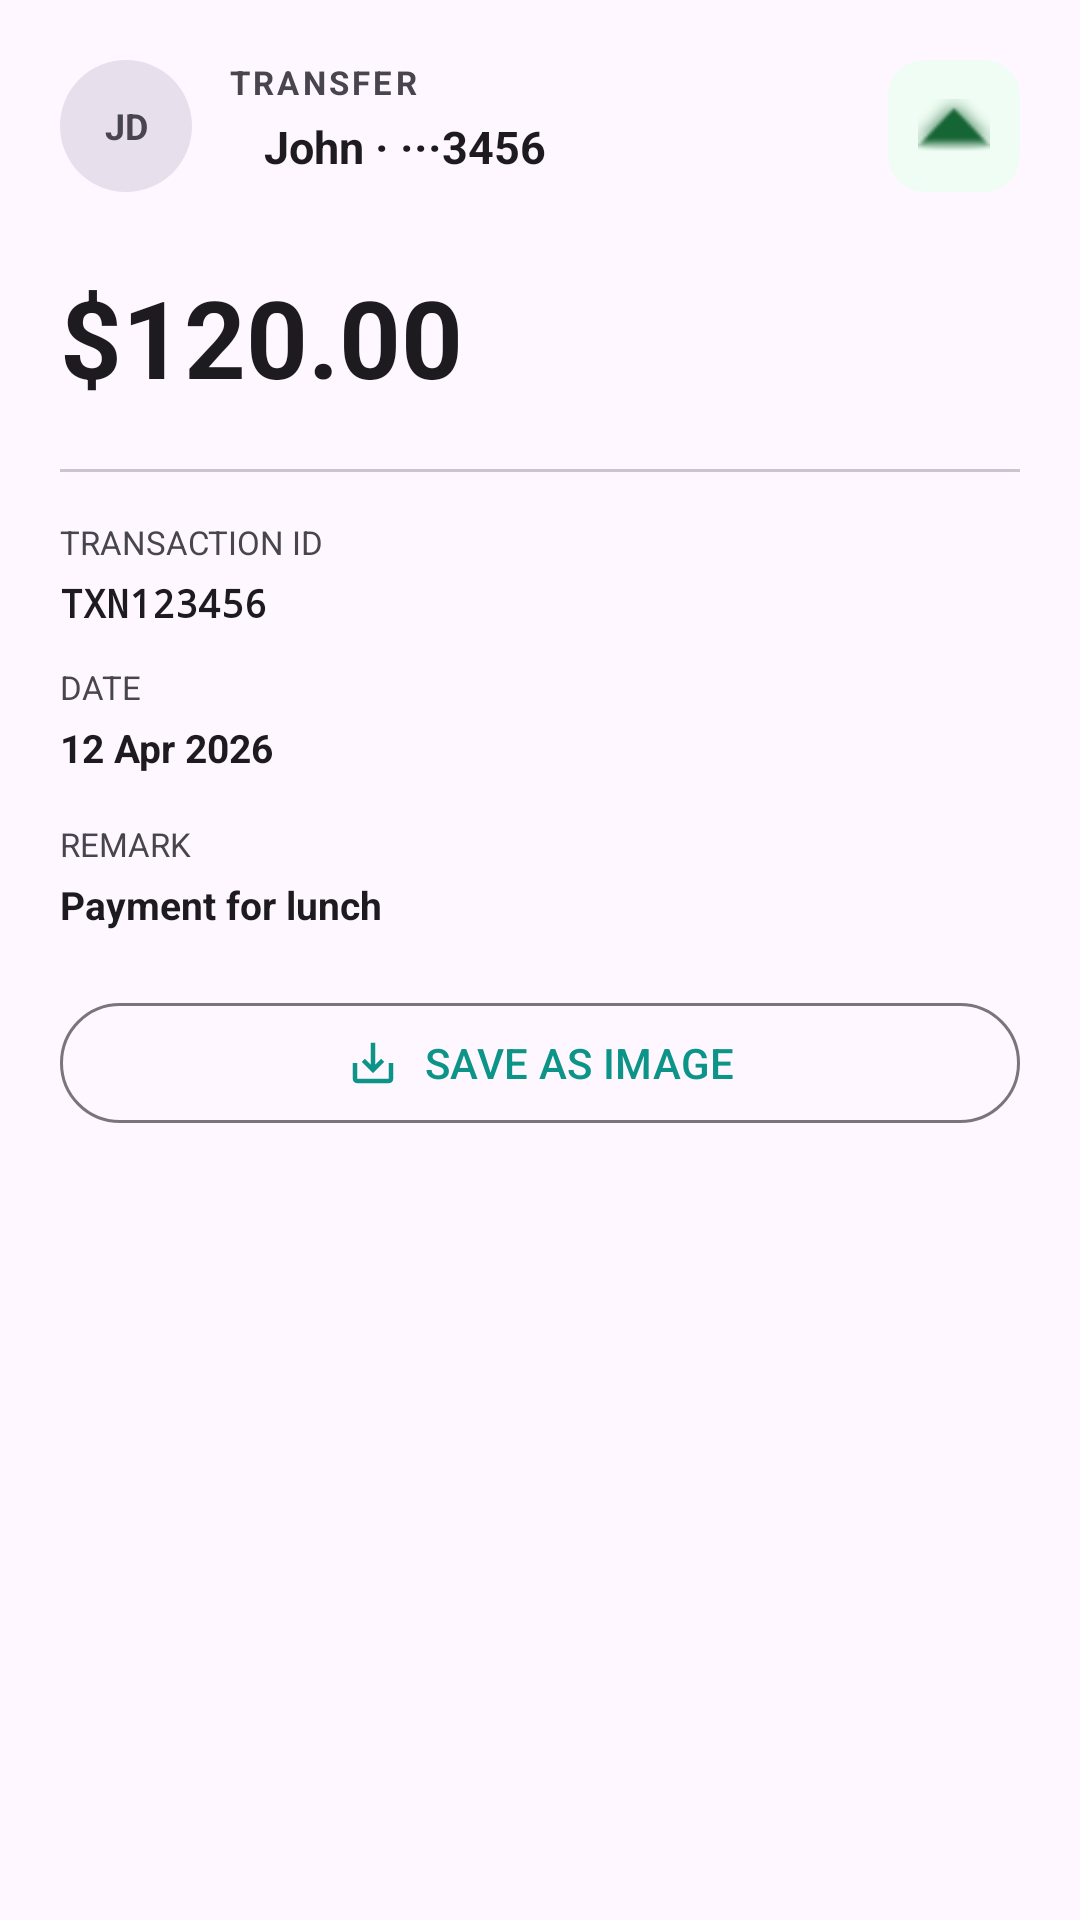

Named icons in this screenshot (1080*1920) and their centers, (x,y):
arrow up float: (954,125)
